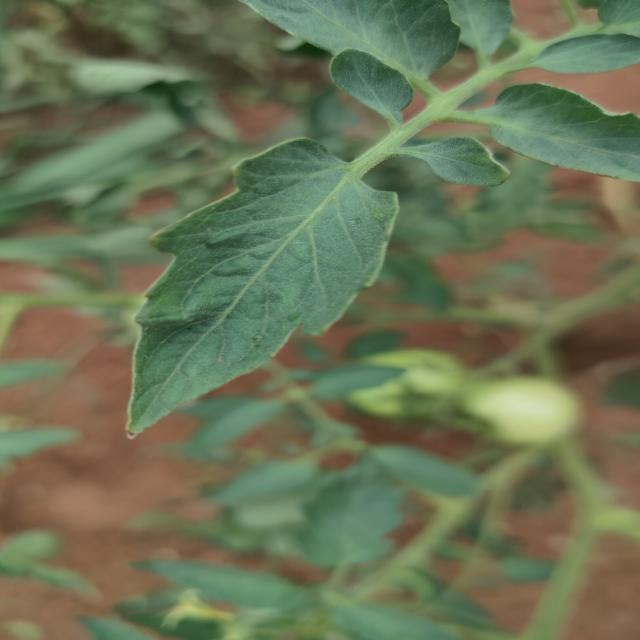tomato_healthy: (133, 134, 400, 443)
